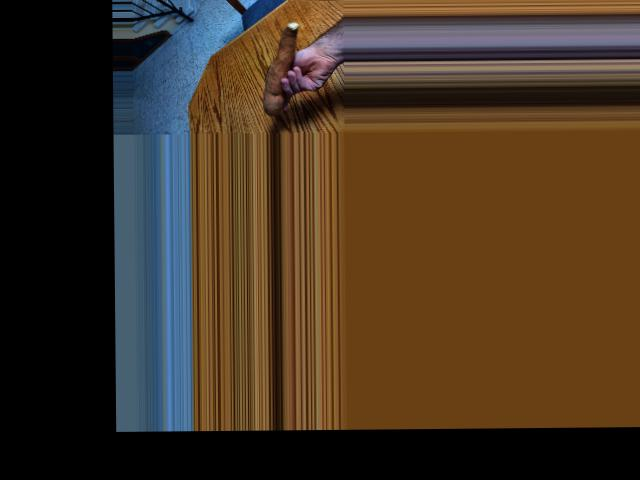sweet_potato: (257, 20, 301, 112)
